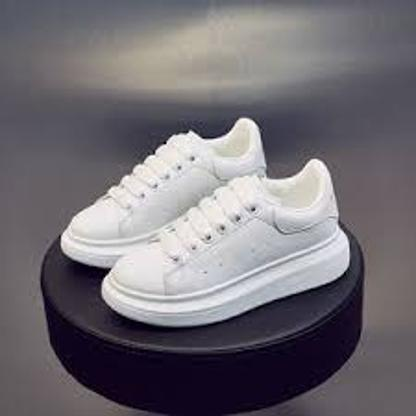not trash: (60, 115, 351, 326)
